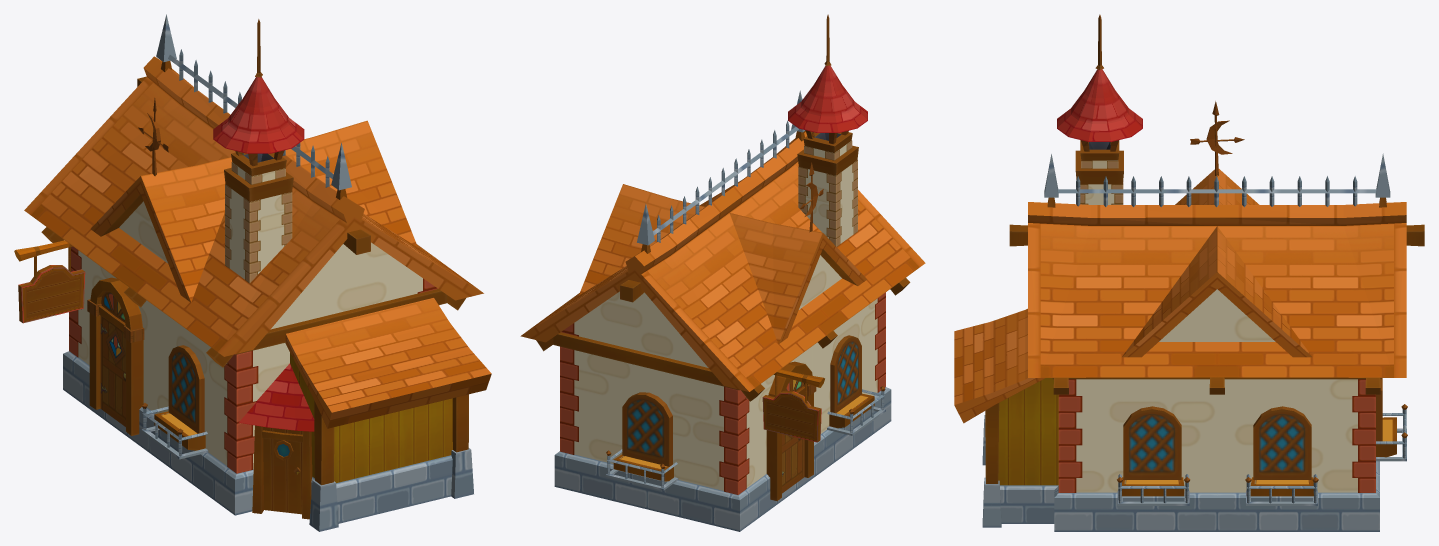
The model's file is BLD0910012.fbx.
3 views of the same model, side by side, from view 1: azimuth 30°, elevation 25°; view 2: azimuth 150°, elevation 25°; view 3: azimuth 270°, elevation 25° (orthographic). The views are drawn at different scales.
Visible parts, largest first — view 1: smBLD0910012; view 2: smBLD0910012; view 3: smBLD0910012.
Part boxes in pixels (<box>): smBLD0910012: <box>14,14,491,531</box>; smBLD0910012: <box>520,14,925,531</box>; smBLD0910012: <box>954,14,1424,531</box>.
Bounding box in the file's own units: 723 × 1054 × 1014.
